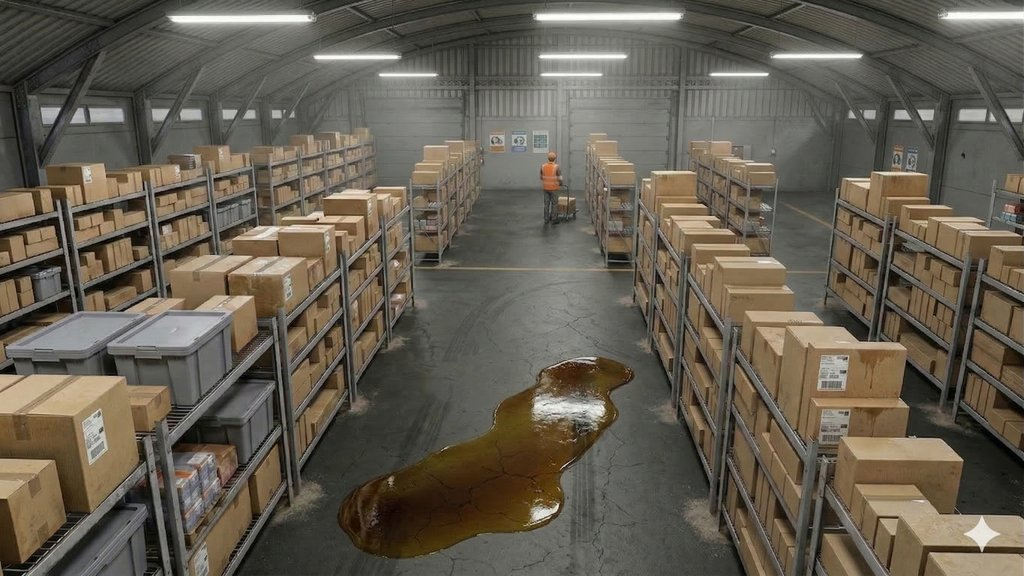person: (529, 141, 585, 246)
safety_signage: (891, 137, 921, 174), (511, 128, 555, 150), (489, 127, 508, 154)
safety_vest: (535, 159, 567, 203)
spill: (316, 355, 657, 567)
